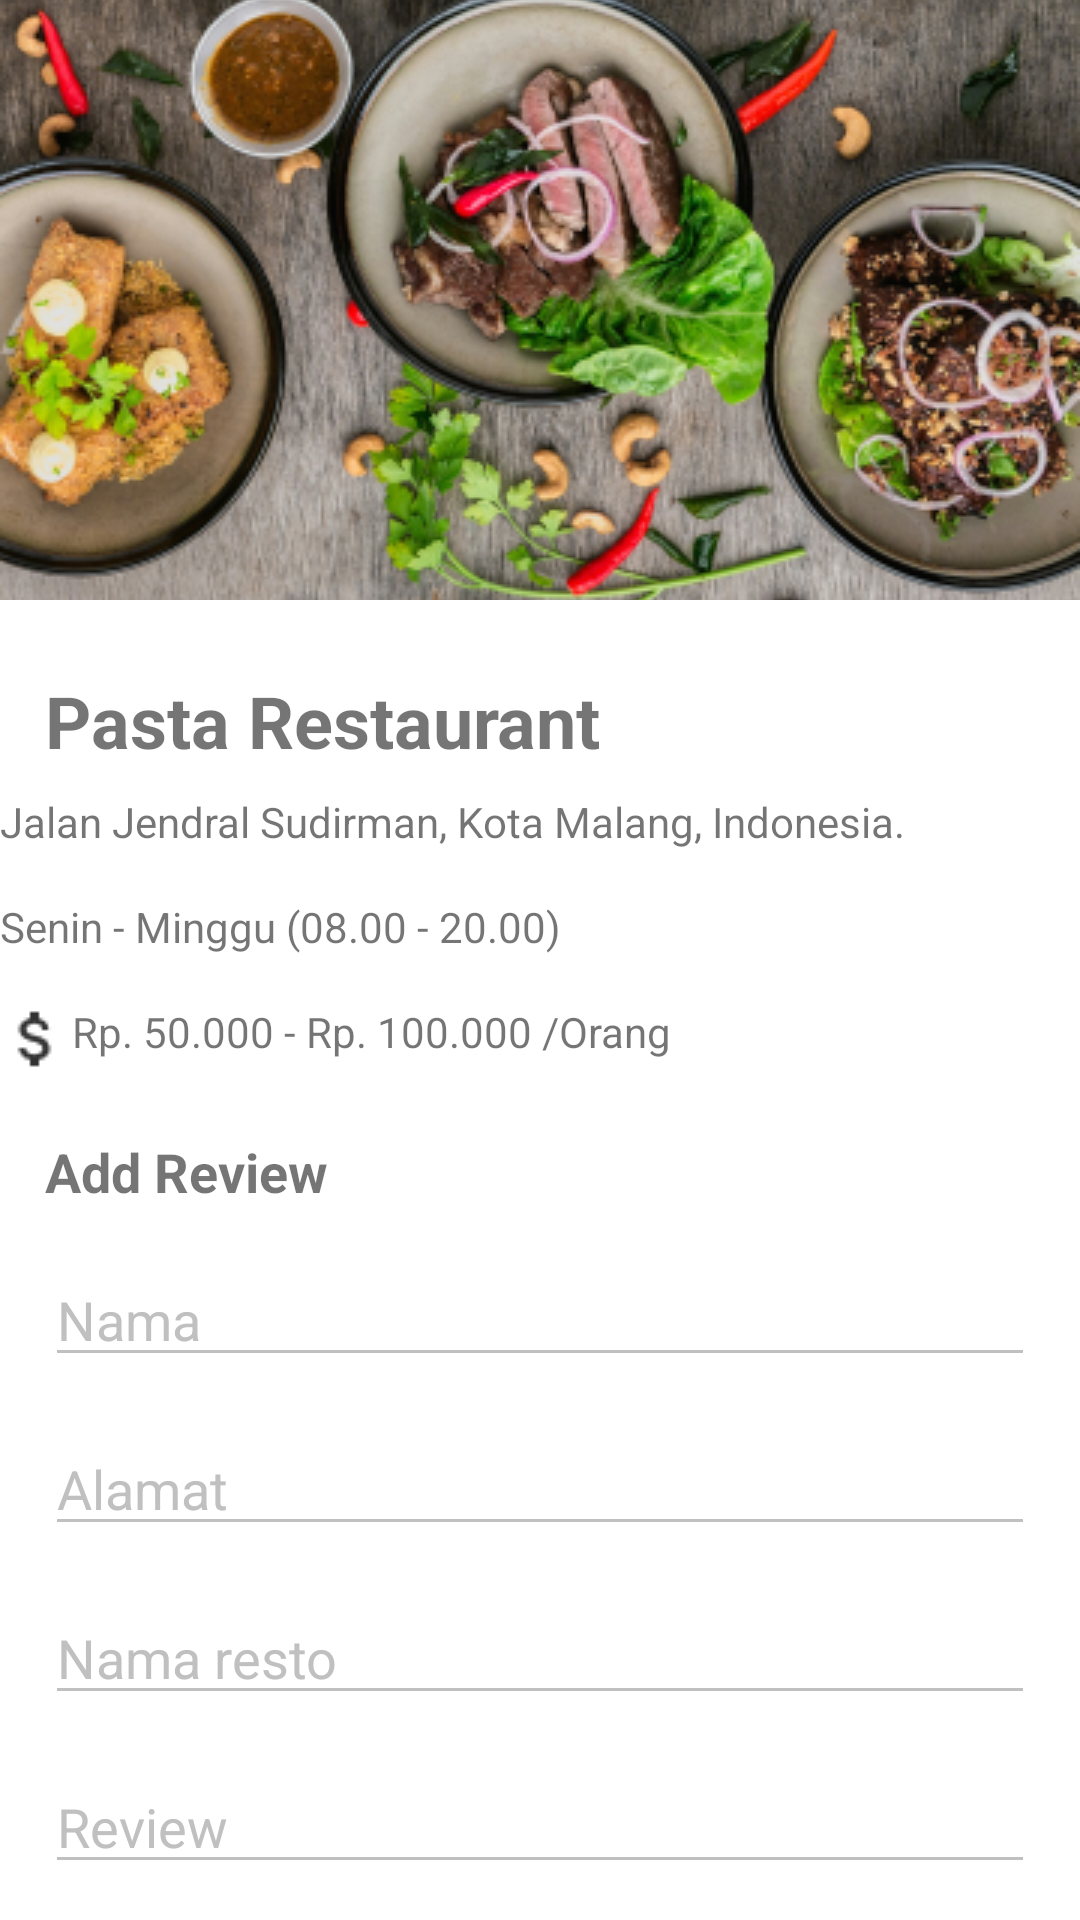

Where icons sit on this 1080x1920 app screen, as (x1, y1, x2, y2):
Range Harga Restoran: (17, 1011, 52, 1067)
